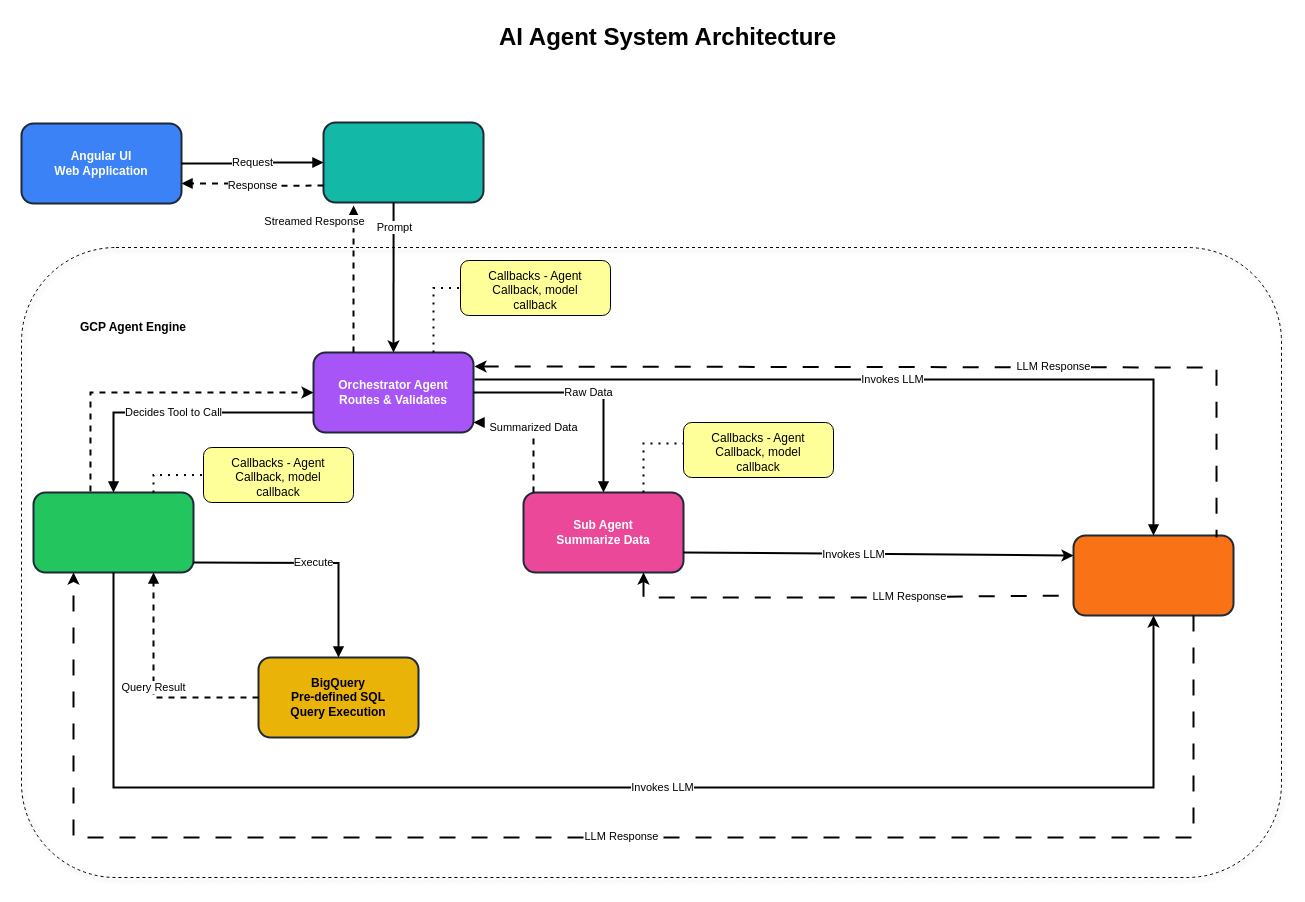
Some shapes in this 1305 by 902 pixel diagram are drawn without their labels. Each missing label, with the centre of its shape:
Gemini 3.5 Flash LLM with Tools: the point at 1153,575
Java Middle Tier API Gateway: the point at 403,162
Remote Agent: the point at 113,532
